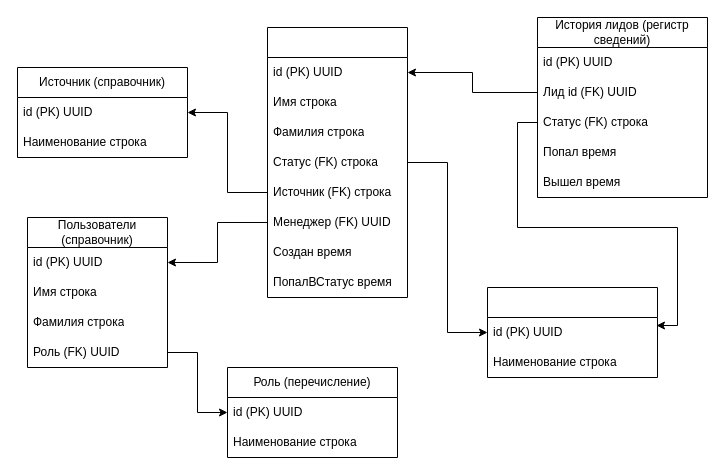
Some shapes in this 725 by 475 pixel diagram are drawn without their labels. The shapes that lost their labels are listed below. From the top down, each one's box as (x1, y1, x2, y2) in pixels, then its label:
(266, 26, 408, 298): Лиды (справочник)
(486, 286, 658, 378): Статус (перечисление)
